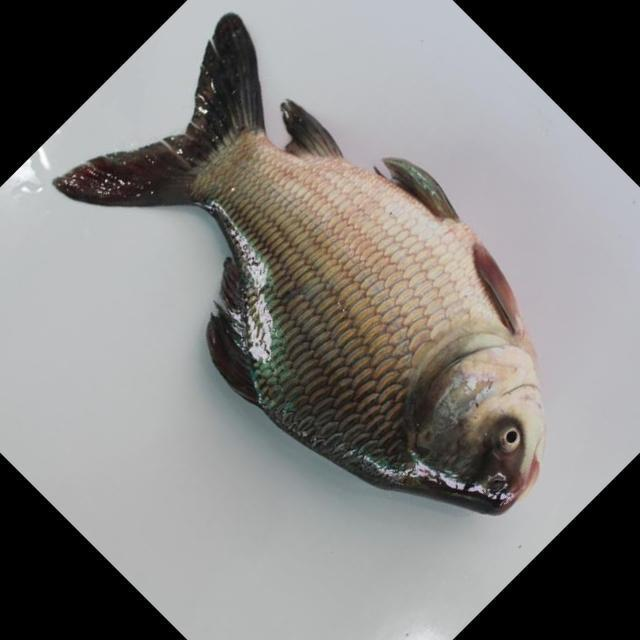Catla: (55, 7, 578, 519)
